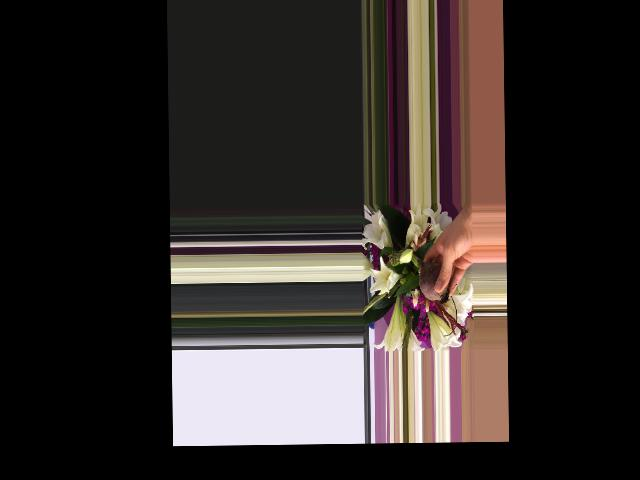beet: (412, 251, 449, 304)
